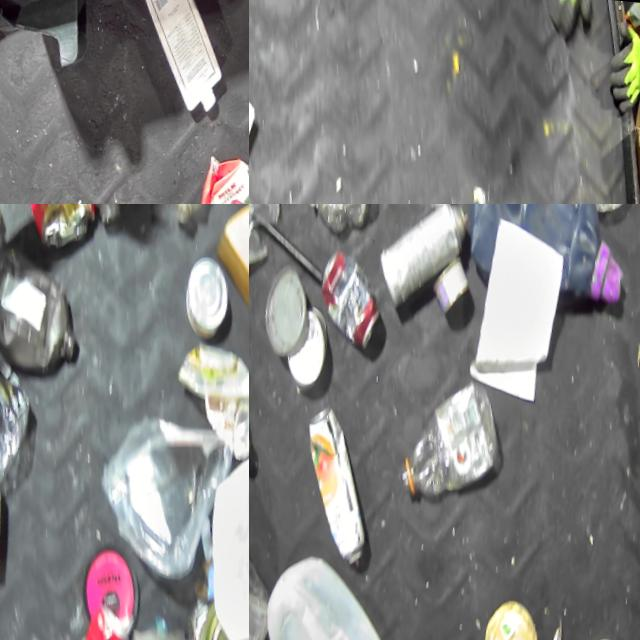can: (301, 394, 393, 571), (372, 204, 486, 310), (315, 238, 398, 354), (174, 243, 246, 337), (284, 298, 345, 387), (61, 594, 163, 640), (12, 204, 106, 246), (190, 582, 249, 640), (431, 247, 480, 311), (0, 467, 26, 583)
milk_jug: (262, 535, 421, 640), (136, 0, 249, 119), (198, 429, 249, 640)
non_white_jug: (448, 204, 640, 317), (196, 132, 249, 204)
plastic_bottle: (395, 366, 520, 501), (249, 538, 298, 640), (94, 593, 200, 640), (249, 314, 275, 484)
